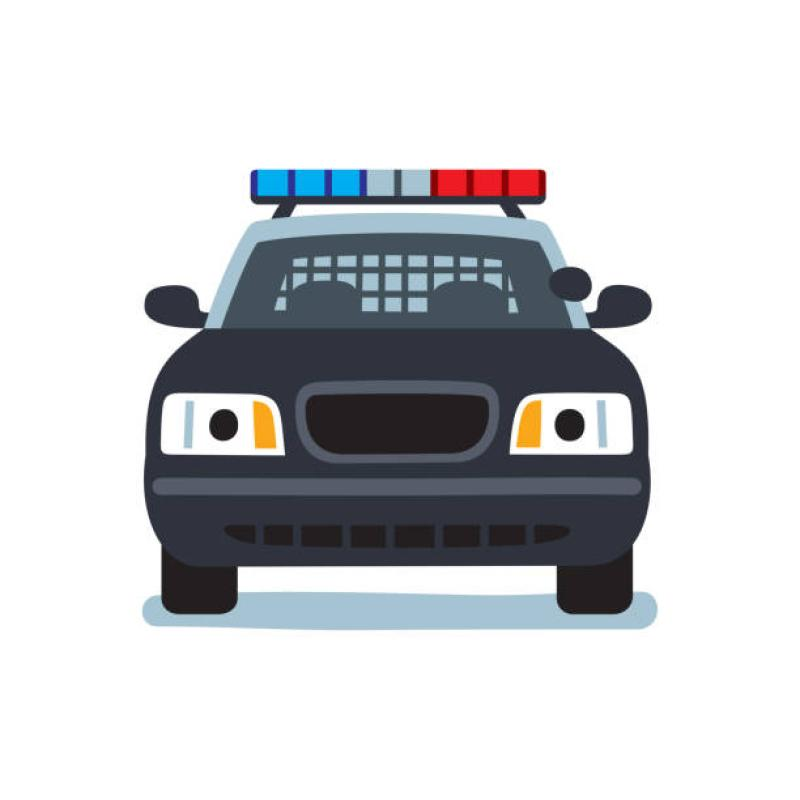AmbulanceSiren: (225, 151, 560, 217)
car: (140, 208, 705, 569)
